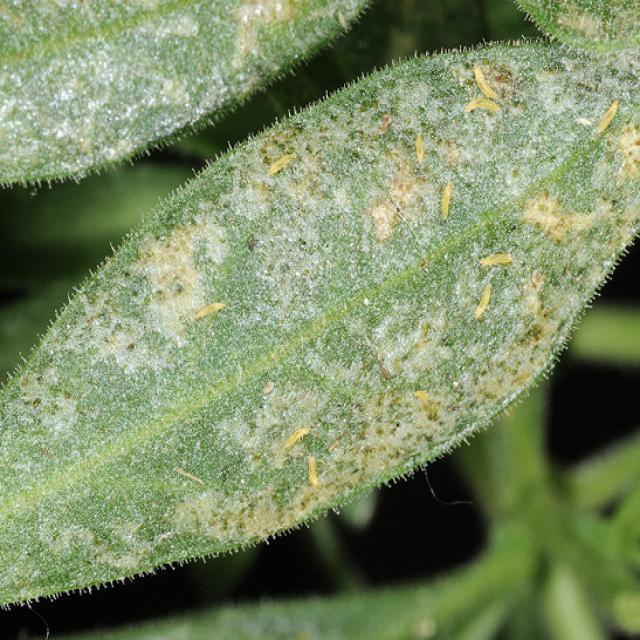Thrip-Larva-: (465, 278, 501, 328), (258, 149, 305, 182), (431, 168, 455, 227), (597, 95, 628, 136), (462, 97, 505, 122), (474, 61, 503, 98), (282, 424, 317, 451), (412, 125, 432, 170), (300, 450, 321, 487), (475, 252, 523, 268), (195, 300, 228, 323)
